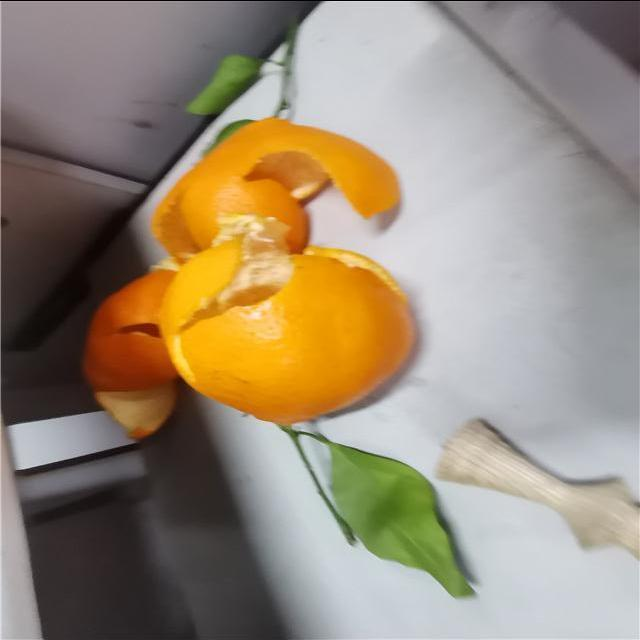orange peel: (164, 234, 421, 425), (130, 110, 416, 278), (69, 230, 205, 451)
